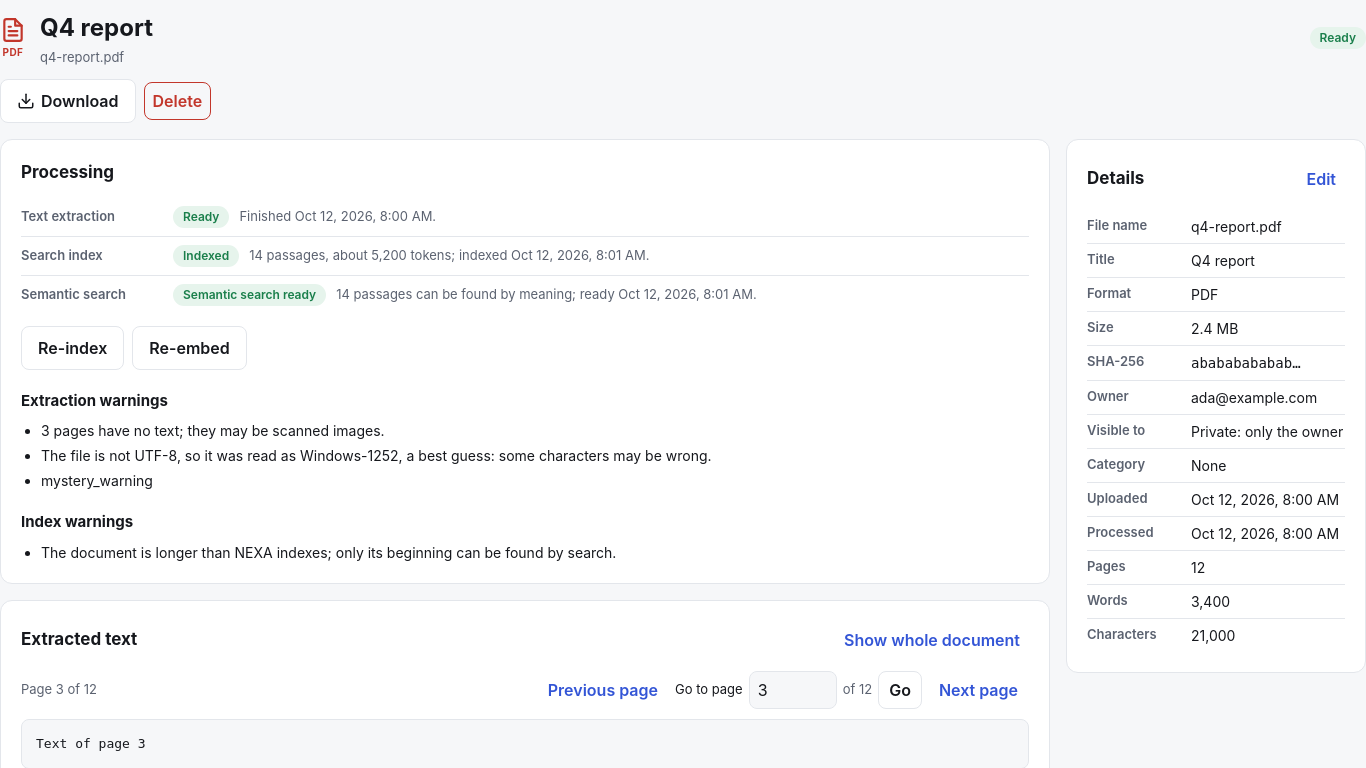
it: DocumentDetailPage › opens the page named by ?page= and goes back to the whole document
(page scrolled)
expect the text named "Document text" reads "Text of page 3": met, box [36,736,146,750]
expect the text "Page 3 of 12" is shown: met, box [21,680,97,699]
Click the button "Next page" at [978, 690], box [928,670,1029,708]
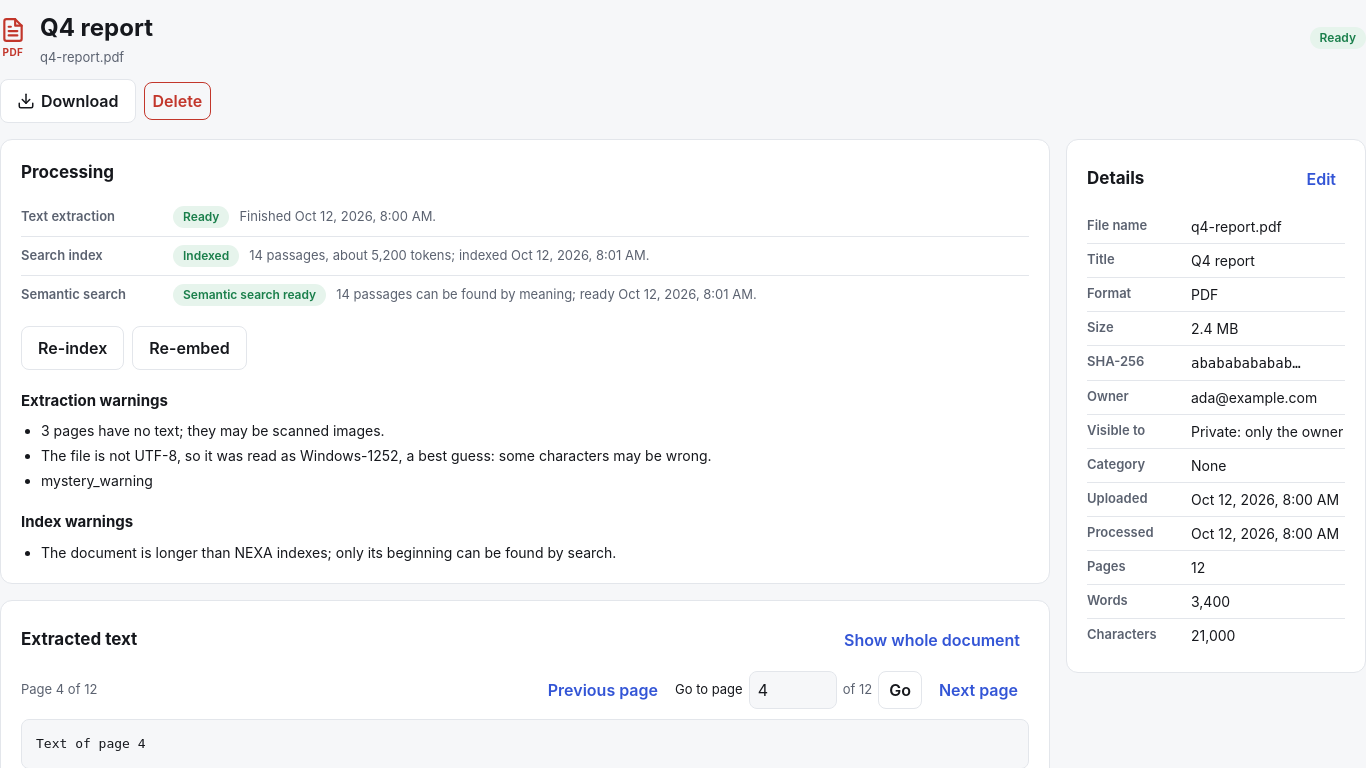
expect the text named "Document text" reads "Text of page 4": met, box [36,736,146,750]
Replace the text in the number field labelled "Go to page" with "9" at [793, 690], box [749,670,837,708]
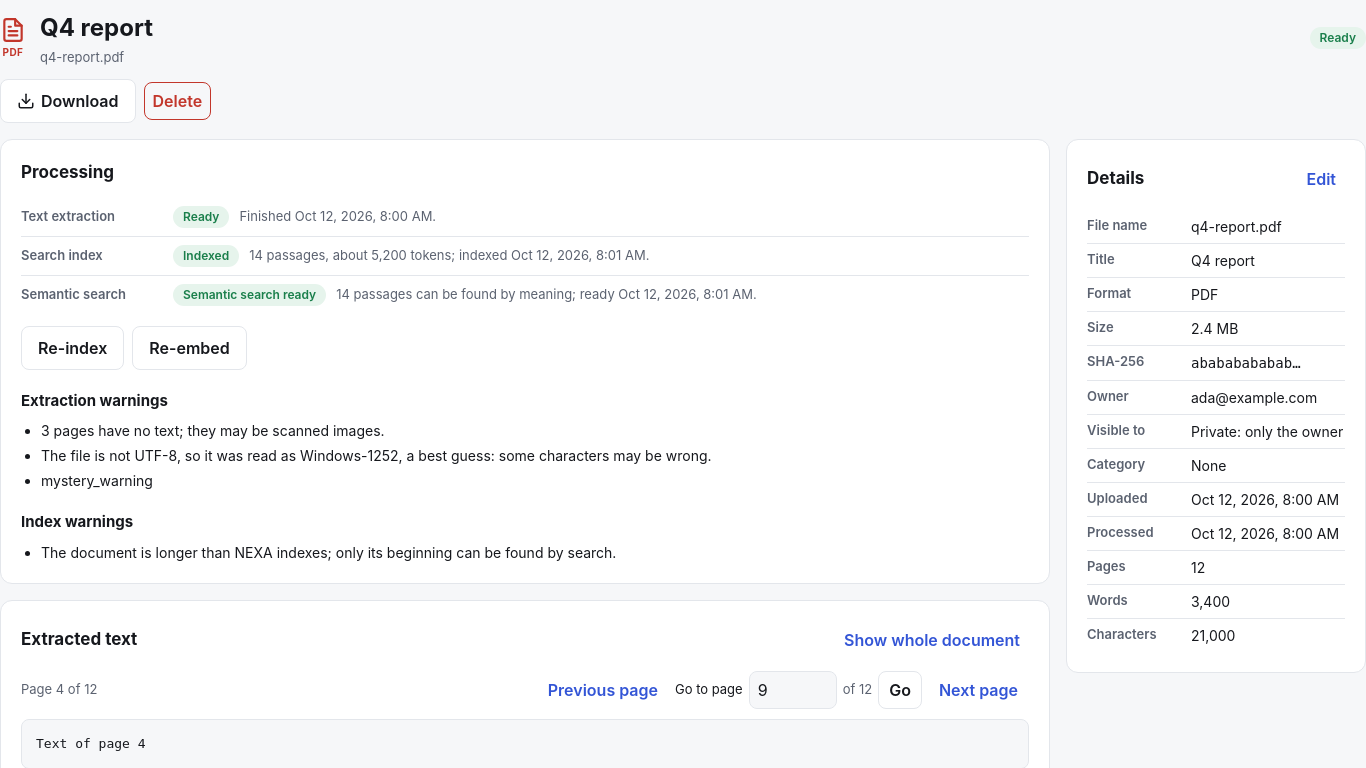
Click the button "Go" at [900, 690], box [878,670,922,708]
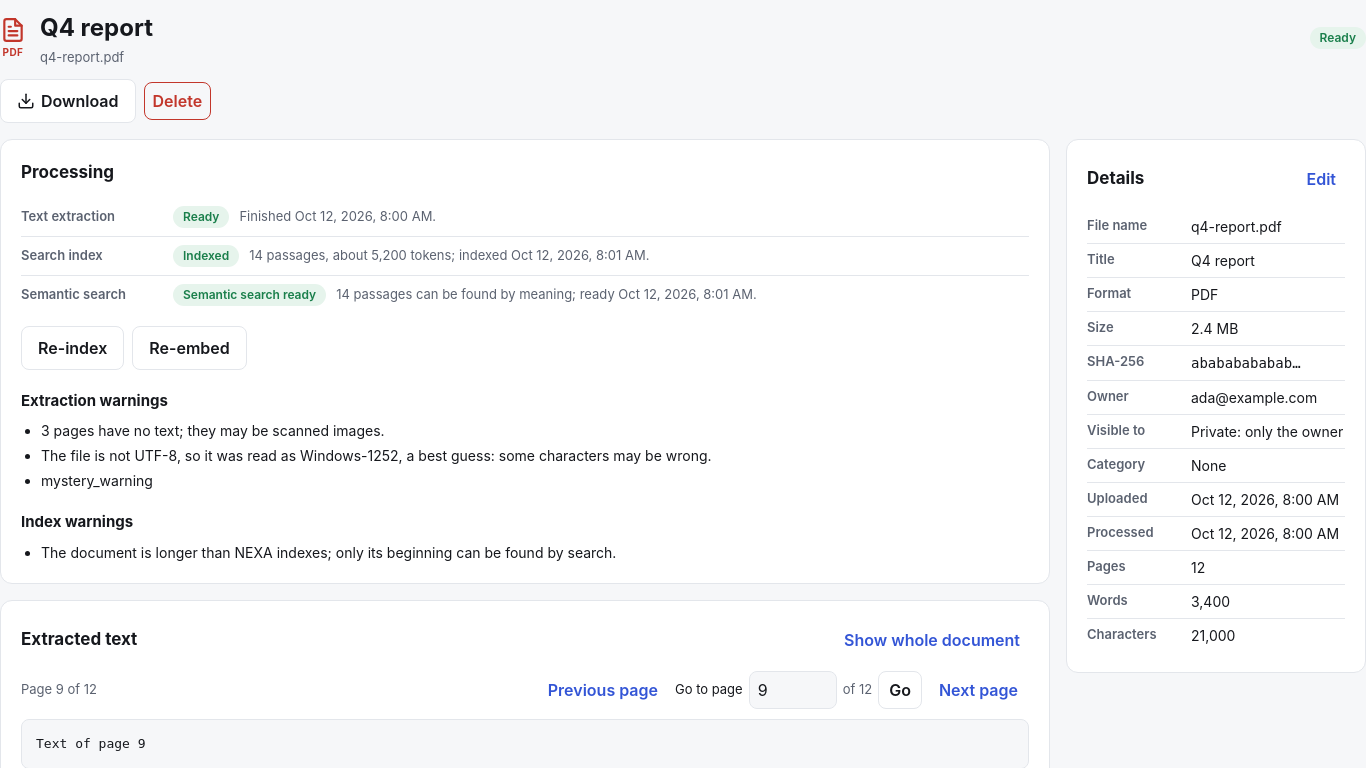
expect the text named "Document text" reads "Text of page 9": met, box [36,736,146,750]
Click the button "Show whole document" at [932, 640], box [835,620,1029,658]
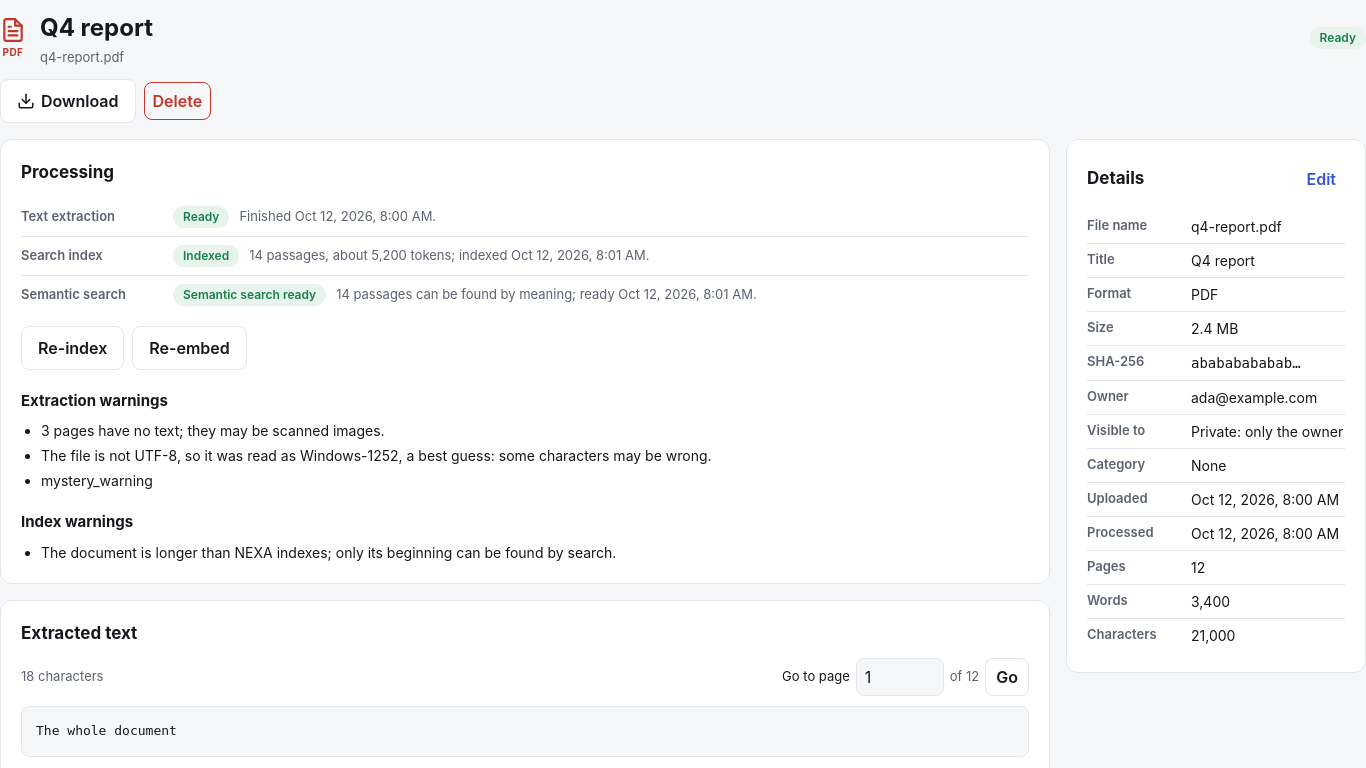
expect the text named "Document text" reads "The whole document": met, box [36,723,177,738]
expect the button "Show whole document" is gone: met
